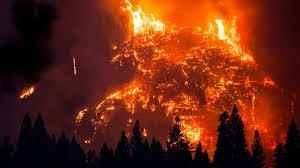fire: (96, 5, 279, 157), (18, 84, 36, 99)
